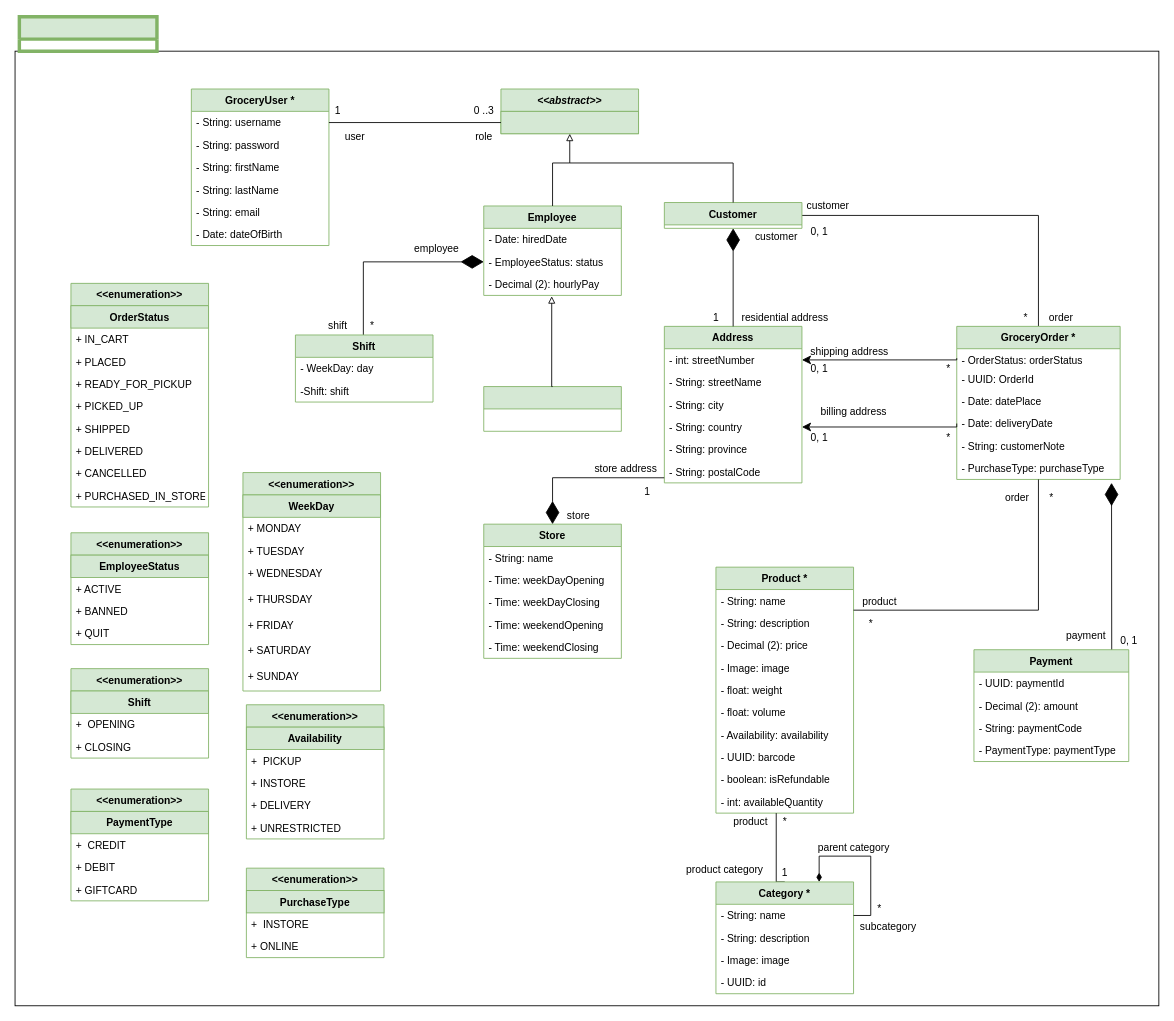
The diagram is 1174 pixels wide and 1021 high, and some of its shapes have lost their labels. The centre of each missing label's shape, as x and y in pixels:
"Grocery Application" belongs at (87,33).
"Manager" belongs at (552,408).
"UserRole" belongs at (569,122).
